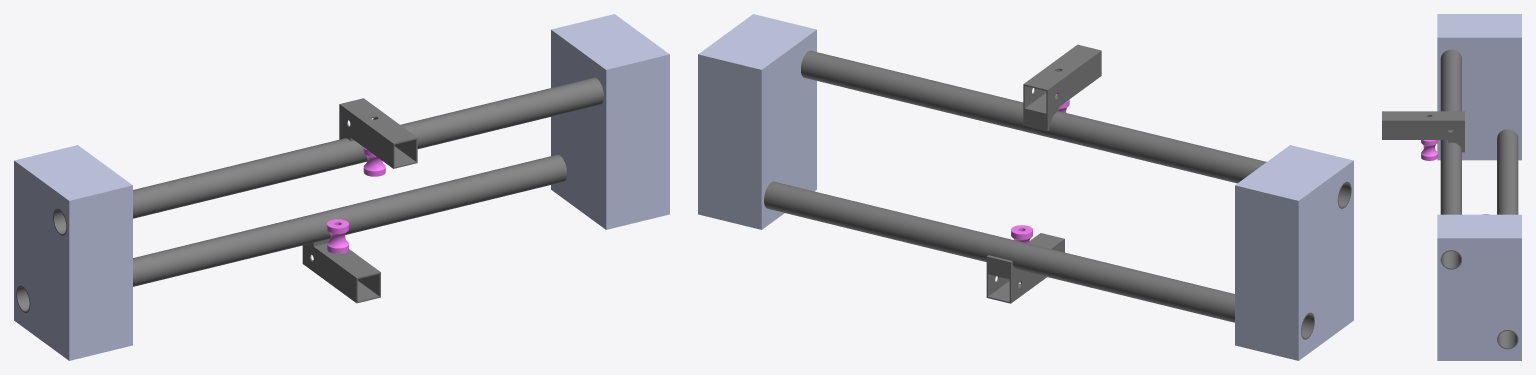
The model's file is walkingCR-leg-frames.obj.
The picture shows the model from 3 angles, left to right: view 1: azimuth 30°, elevation 25°; view 2: azimuth 150°, elevation 25°; view 3: azimuth 270°, elevation 25°; orthographic projection. The views are drawn at different scales.
Parts seen in each view (by area): view 1: Root|walkingCartesianRobot-leg-frames_(Default)|Default|color-2, Root|walkingCartesianRobot-leg-frames_(Default)|Default|color, Root|walkingCartesianRobot-leg-frames_(Default)|Default|color-4; view 2: Root|walkingCartesianRobot-leg-frames_(Default)|Default|color-2, Root|walkingCartesianRobot-leg-frames_(Default)|Default|color; view 3: Root|walkingCartesianRobot-leg-frames_(Default)|Default|color-2, Root|walkingCartesianRobot-leg-frames_(Default)|Default|color, Root|walkingCartesianRobot-leg-frames_(Default)|Default|color-4.
Part boxes in pixels (x1=…): Root|walkingCartesianRobot-leg-frames_(Default)|Default|color-2: x1=14, y1=14, x2=669, y2=360; Root|walkingCartesianRobot-leg-frames_(Default)|Default|color: x1=16, y1=77, x2=603, y2=312; Root|walkingCartesianRobot-leg-frames_(Default)|Default|color-4: x1=327, y1=147, x2=385, y2=253; Root|walkingCartesianRobot-leg-frames_(Default)|Default|color-2: x1=698, y1=14, x2=1353, y2=360; Root|walkingCartesianRobot-leg-frames_(Default)|Default|color: x1=764, y1=44, x2=1351, y2=339; Root|walkingCartesianRobot-leg-frames_(Default)|Default|color-2: x1=1437, y1=14, x2=1521, y2=360; Root|walkingCartesianRobot-leg-frames_(Default)|Default|color: x1=1382, y1=49, x2=1518, y2=349; Root|walkingCartesianRobot-leg-frames_(Default)|Default|color-4: x1=1421, y1=140, x2=1489, y2=214.
Size of the model in its own units: 0.9425 by 0.28 by 0.248.
